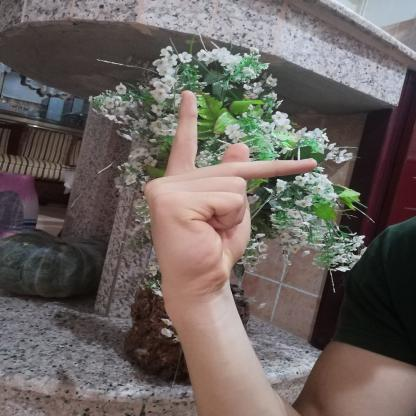DHAA: (127, 80, 331, 308)
